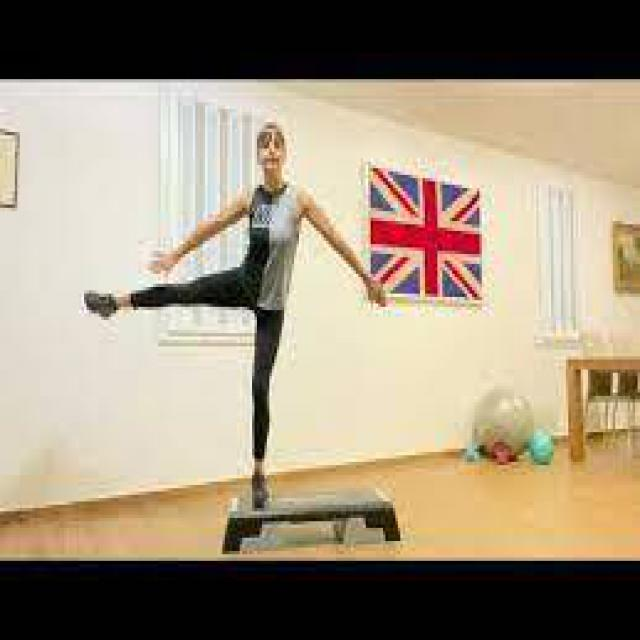Ball: (465, 379, 541, 475)
Step: (213, 472, 405, 558)
